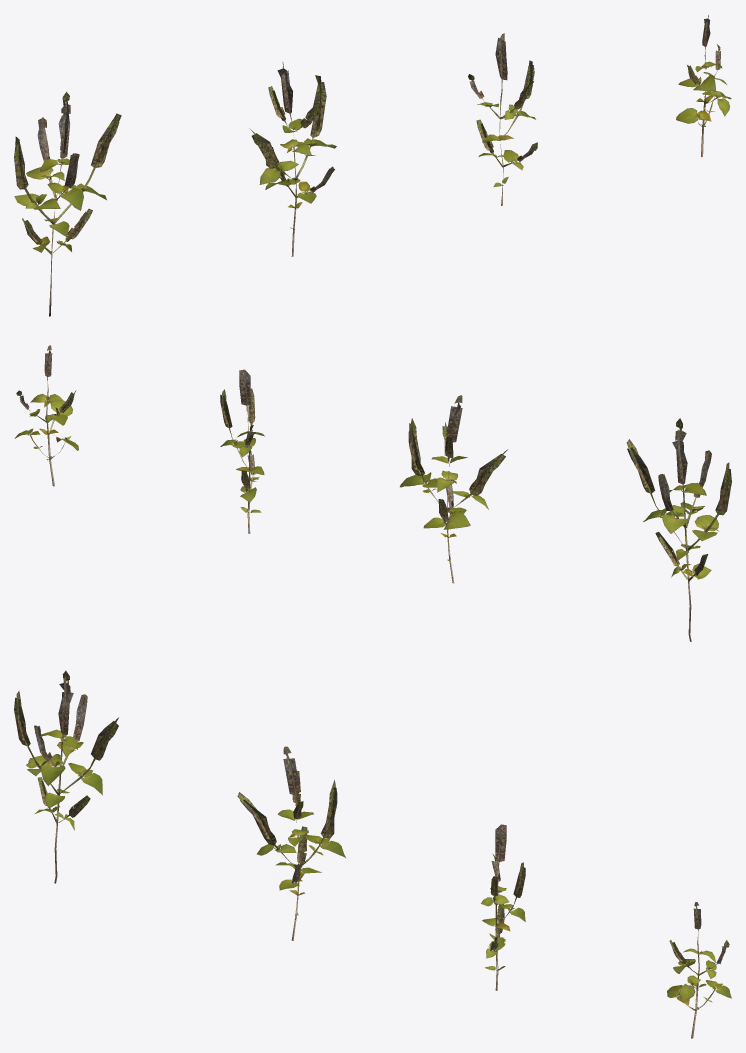
Rendered from shrub.glb.
The picture shows the model from 3 angles, top to bottom: view 1: azimuth 30°, elevation 25°; view 2: azimuth 150°, elevation 25°; view 3: azimuth 330°, elevation 25°; orthographic projection. The views are drawn at different scales.
Parts seen in each view (by area): view 1: shrub_03_a, shrub_03_b, shrub_03_c, shrub_03_d; view 2: shrub_03_a, shrub_03_b, shrub_03_c, shrub_03_d; view 3: shrub_03_a, shrub_03_b, shrub_03_c, shrub_03_d.
Part boxes in pixels (<box>): shrub_03_a: <box>14,91,121,316</box>; shrub_03_b: <box>249,62,336,256</box>; shrub_03_c: <box>468,33,537,205</box>; shrub_03_d: <box>676,15,731,157</box>; shrub_03_a: <box>626,418,731,641</box>; shrub_03_b: <box>400,395,507,583</box>; shrub_03_c: <box>220,369,264,533</box>; shrub_03_d: <box>14,345,78,486</box>; shrub_03_a: <box>14,670,118,883</box>; shrub_03_b: <box>237,746,345,940</box>; shrub_03_c: <box>481,824,525,990</box>; shrub_03_d: <box>667,902,731,1038</box>.
Bounding box in the file's own units: 1.37 × 0.4028 × 0.1512.
1 material, 1 textured.
